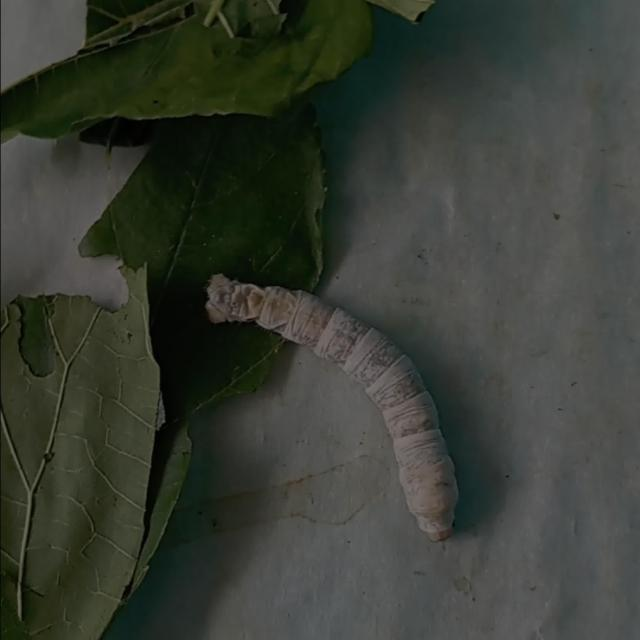Grasserie: (203, 259, 487, 550)
